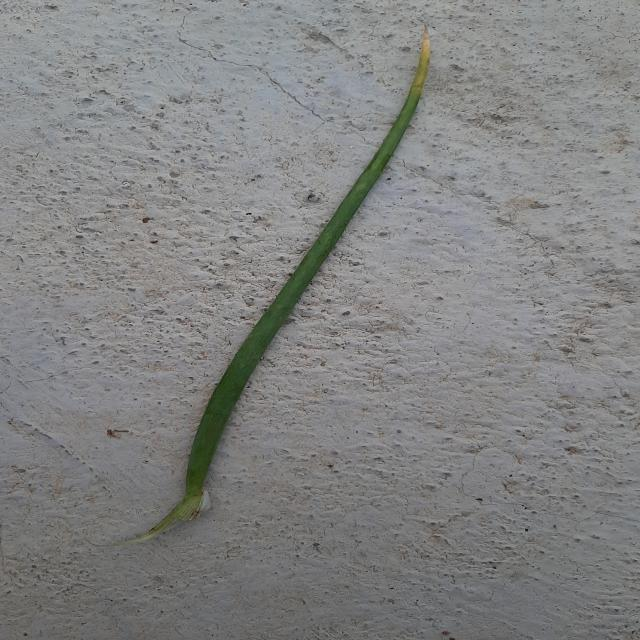onion: (114, 29, 431, 545)
